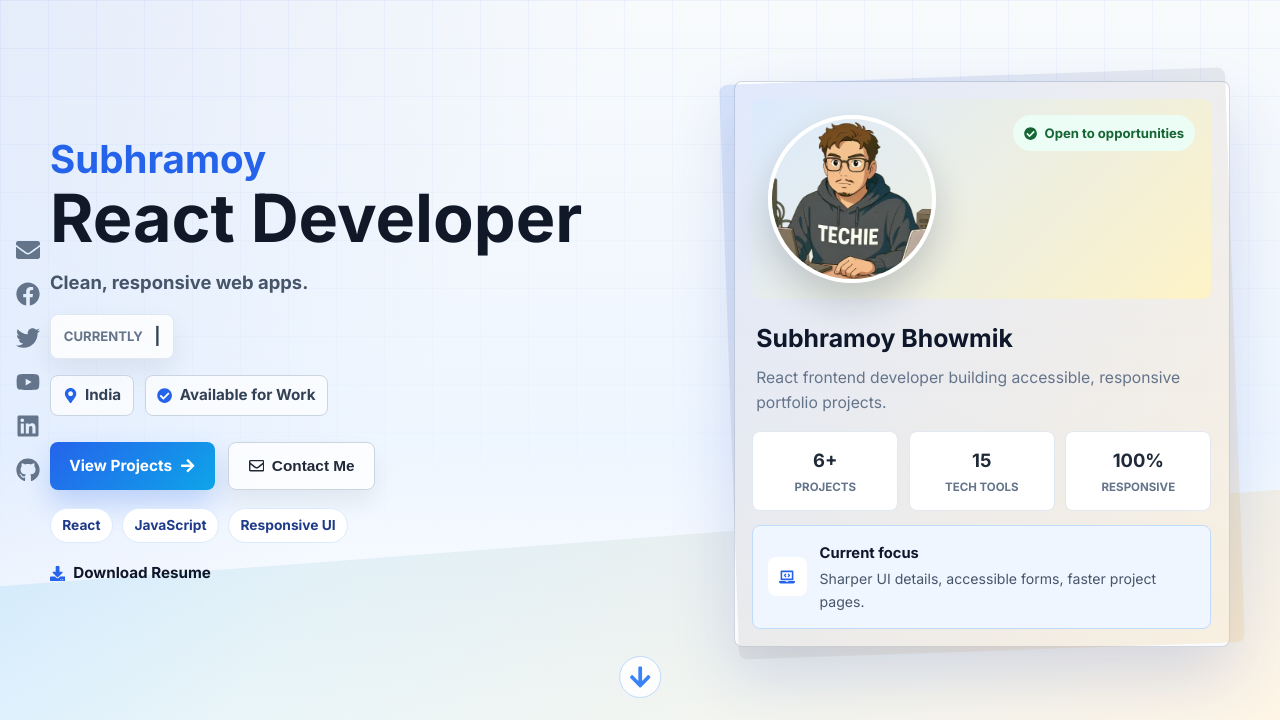
it: renders portfolio content
Expected: the heading "Subhramoy React Developer" is shown, [50,136,582,258]
Click the button "Contact Me".
click(302, 466)  # box [228,442,375,490]
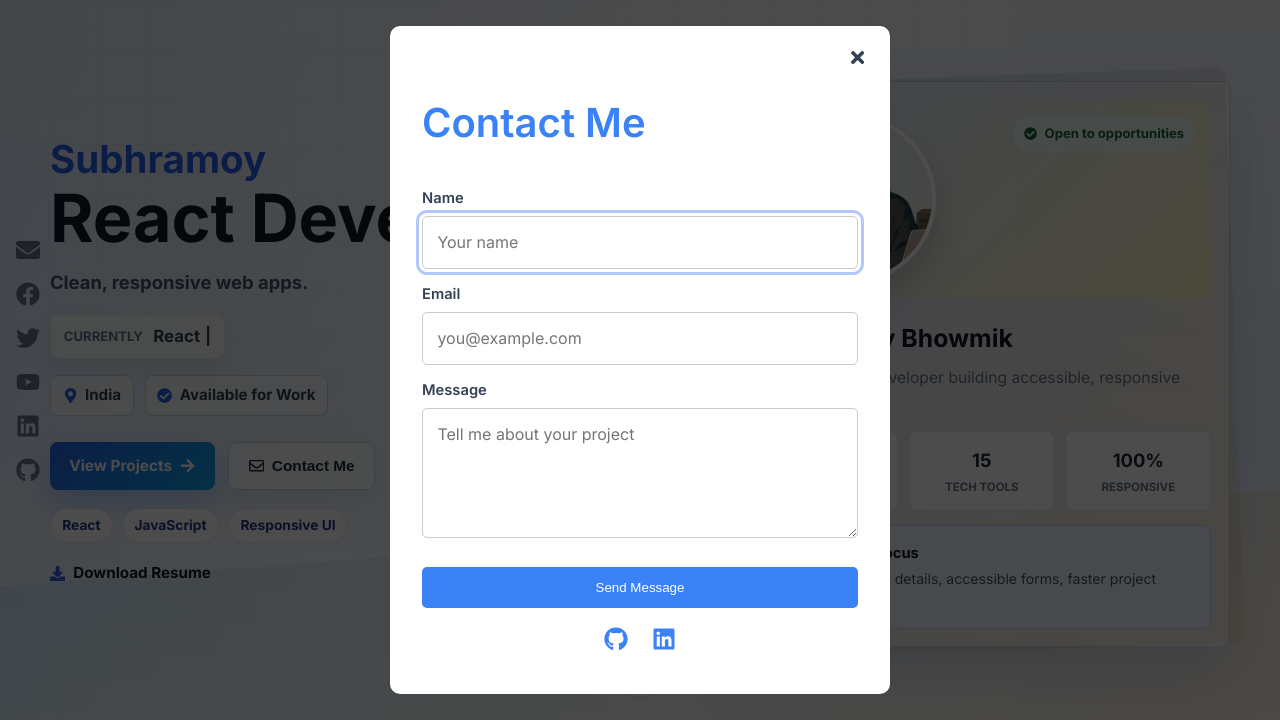
Result: the dialog "Contact Me Name Email Message Send Message" is shown at [390,26,890,694]
